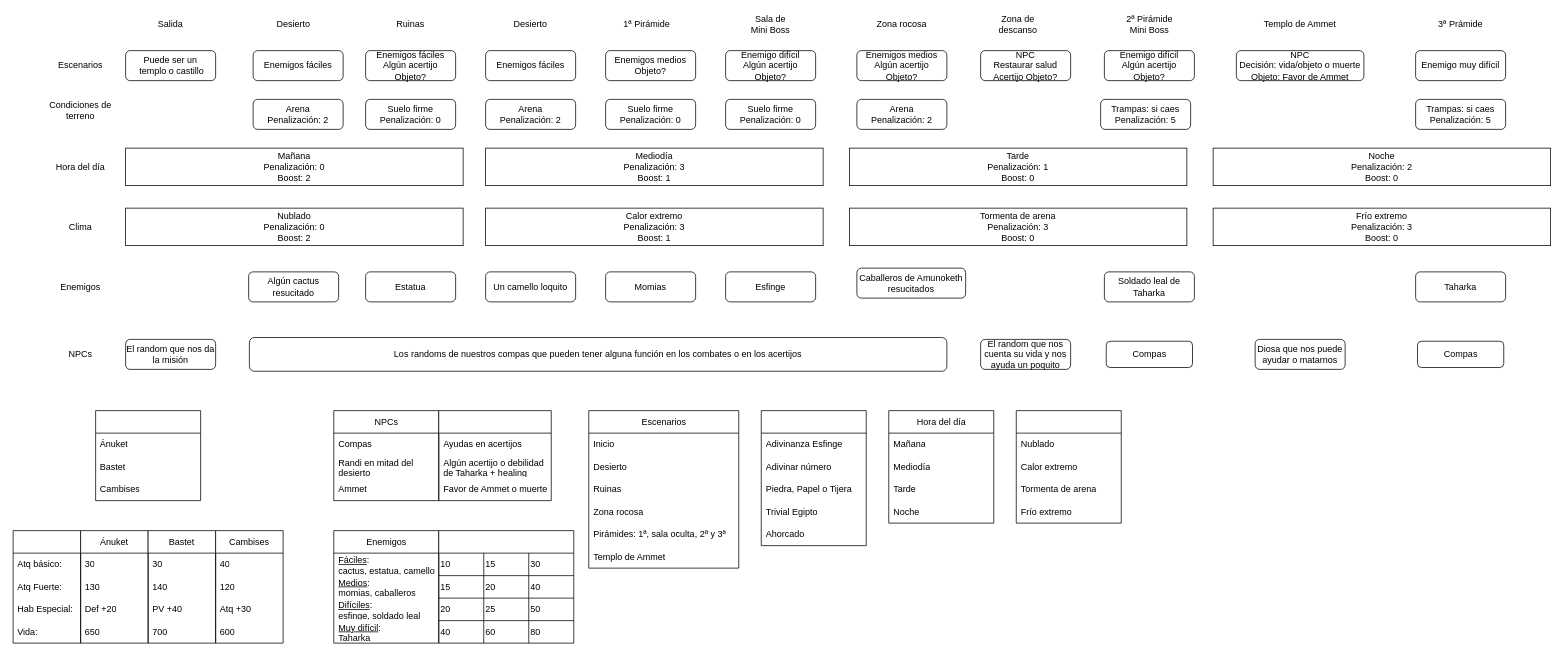
Some shapes in this 1564 by 656 pixel diagram are drawn without their labels. The shapes that lost their labels are listed below. From the top down, each one's box as (x1, y1, x2, y2) in pixels, then its label:
(95, 410, 201, 501): Personajes
(438, 410, 551, 501): Ayudas NPCs
(1016, 410, 1121, 523): Climas
(760, 410, 866, 546): Acertijos
(12, 530, 81, 643): Ataques Personajes
(438, 530, 574, 643): Ataques Enemigos
